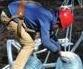gloves: (58, 50, 75, 63)
hard-hat: (59, 6, 74, 31)
